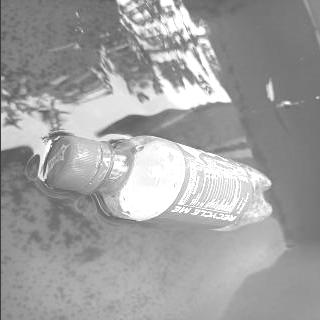bottle: (44, 135, 272, 233)
